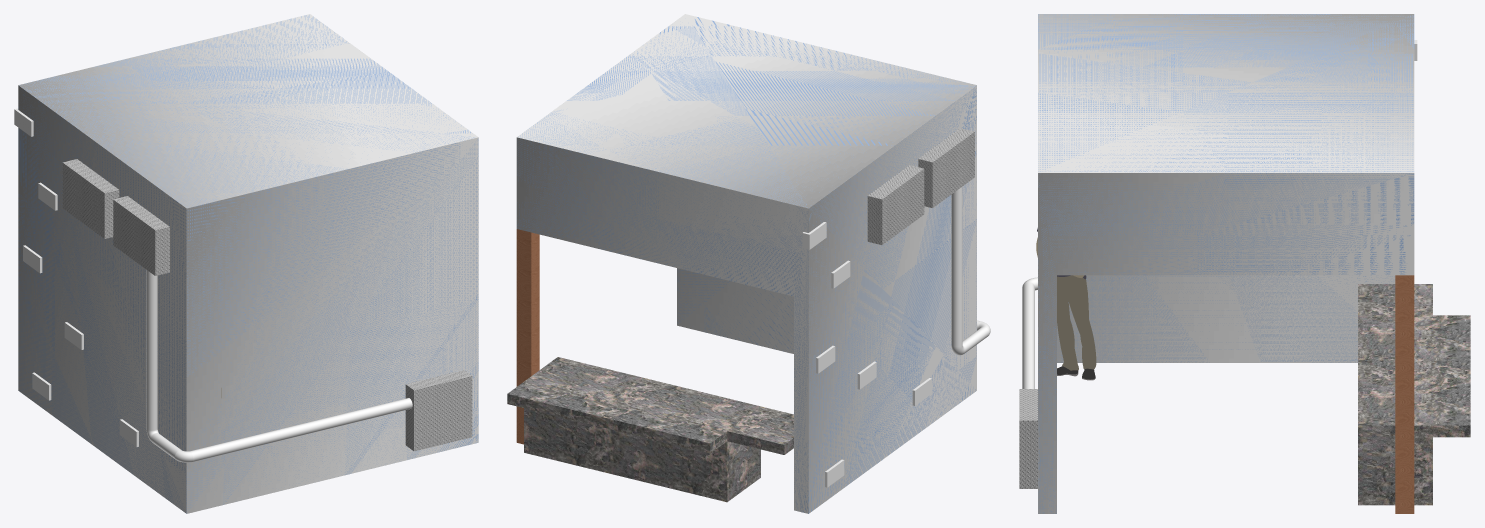
The model's file is hut2.glb.
The picture shows the model from 3 angles, left to right: view 1: azimuth 30°, elevation 25°; view 2: azimuth 150°, elevation 25°; view 3: azimuth 270°, elevation 25°; orthographic projection. The views are drawn at different scales.
Parts seen in each view (by area): view 1: group_0, SketchUp, group_6, group_4, group_5; view 2: group_0, group_2, group_1, group_5, group_4, SketchUp, group_3; view 3: group_0, group_2, group_1, instance_0.013, group_6, group_3, SketchUp.
Boxes of the visible parts, bbox=[...] form: group_0: bbox=[18, 14, 478, 513]; SketchUp: bbox=[146, 270, 412, 462]; group_6: bbox=[405, 370, 472, 451]; group_4: bbox=[113, 196, 169, 275]; group_5: bbox=[62, 159, 119, 238]; group_0: bbox=[516, 14, 976, 513]; group_2: bbox=[507, 357, 760, 502]; group_1: bbox=[516, 229, 539, 444]; group_5: bbox=[867, 165, 924, 244]; group_4: bbox=[918, 128, 974, 208]; SketchUp: bbox=[951, 186, 990, 355]; group_3: bbox=[727, 406, 793, 454]; group_0: bbox=[1038, 14, 1414, 513]; group_2: bbox=[1358, 315, 1470, 505]; group_1: bbox=[1395, 275, 1414, 513]; instance_0.013: bbox=[1057, 275, 1096, 370]; group_6: bbox=[1019, 389, 1037, 488]; group_3: bbox=[1358, 284, 1432, 315]; SketchUp: bbox=[1022, 277, 1037, 388].
Size of the model in its own units: 3.2 by 3.05 by 3.66.
12 materials, 4 textured.
